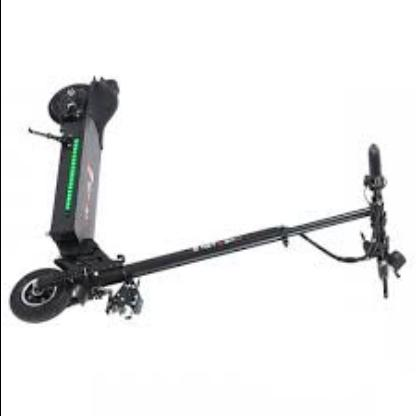bike: (9, 76, 144, 325)
